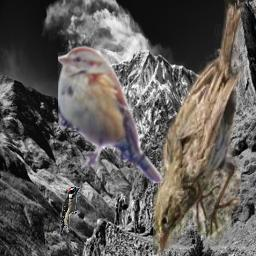Sparrow: (153, 0, 245, 256), (58, 45, 164, 183)
Woodpecker: (60, 186, 81, 232)
